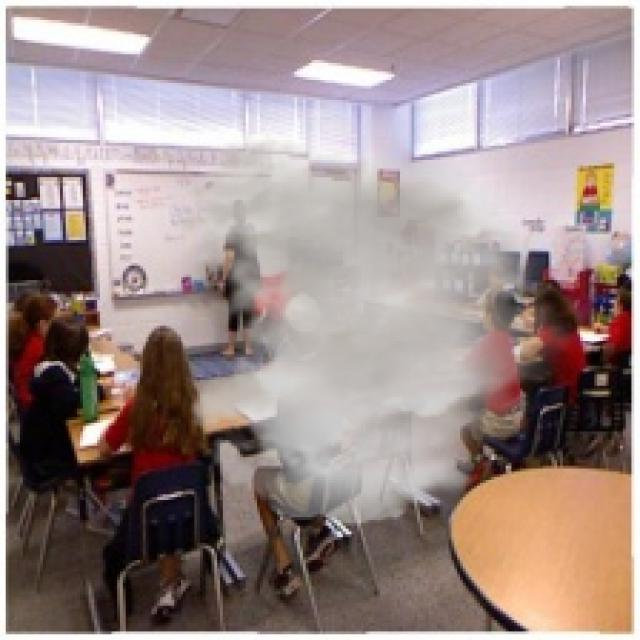smoke: (174, 137, 586, 526)
